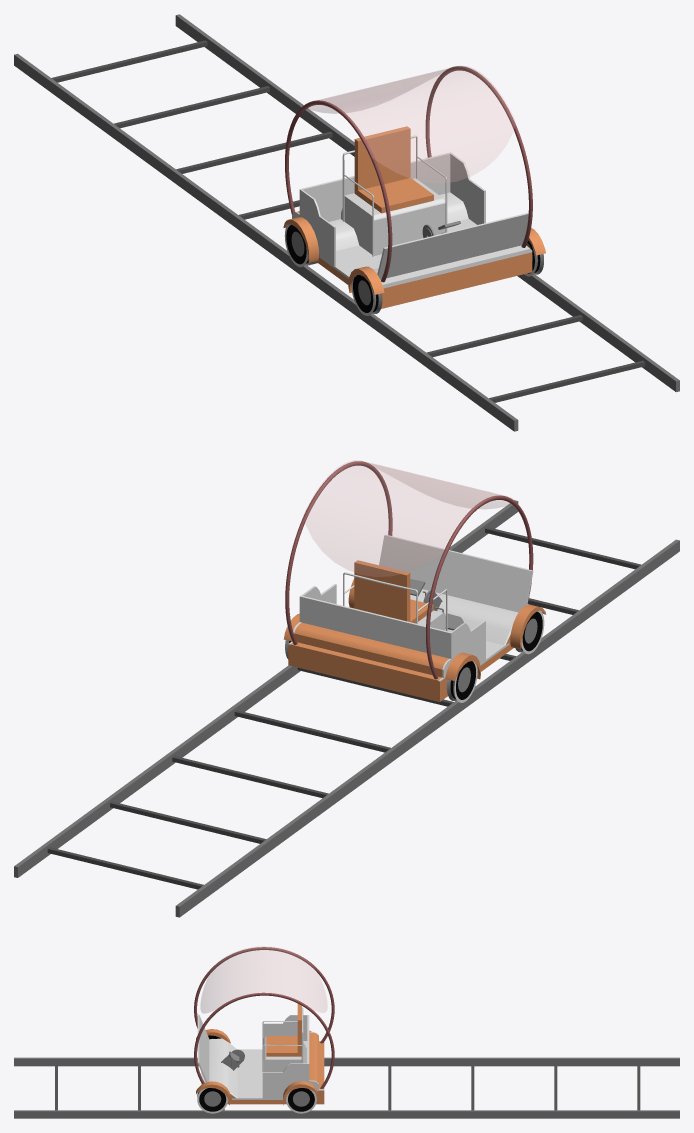
Rendered from railbike (1).fbx.
The picture shows the model from 3 angles, top to bottom: view 1: azimuth 30°, elevation 25°; view 2: azimuth 150°, elevation 25°; view 3: azimuth 270°, elevation 25°; orthographic projection. The views are drawn at different scales.
Parts seen in each view (by area): view 1: floor, pCylinder27, pCube7 (×4), pCube8 (×3), chair_floor, pCube10 (×3), chair2, pCube9 (×2), pCylinder24, chair, pCylinder23, wheel2 (+2 smaller); view 2: floor, pCylinder27, pCube7 (×4), pCube8 (×3), pCube9 (×3), chair2, pCube10 (×2), pCylinder24, pCylinder23, wheel1, wheel2; view 3: floor, pCube8 (×4), pCylinder27, pCube7 (×4), pCylinder23, pCylinder24, wheel4, wheel3, chair_floor, chair.
Boxes of the visible parts, <box> form: floor: <box>292,152,532,308</box>; pCylinder27: <box>308,66,515,183</box>; pCube7 (×4): <box>14,53,518,431</box>; pCube8 (×3): <box>175,14,679,392</box>; chair_floor: <box>341,178,445,255</box>; pCube10 (×3): <box>51,40,582,357</box>; chair2: <box>354,126,410,195</box>; pCube9 (×2): <box>114,86,645,402</box>; pCylinder24: <box>285,100,392,282</box>; chair: <box>358,178,433,213</box>; pCylinder23: <box>425,66,532,247</box>; wheel2: <box>351,275,382,315</box>; floor: <box>288,534,533,701</box>; pCylinder27: <box>303,460,515,576</box>; pCube7 (×4): <box>175,539,679,917</box>; pCube8 (×3): <box>14,500,518,877</box>; pCube9 (×3): <box>110,527,641,843</box>; chair2: <box>354,560,410,621</box>; pCube10 (×2): <box>47,756,328,889</box>; pCylinder24: <box>426,495,533,679</box>; pCylinder23: <box>285,461,392,644</box>; wheel1: <box>446,661,477,702</box>; wheel2: <box>515,610,544,654</box>; floor: <box>197,1014,324,1104</box>; pCube8 (×4): <box>14,1110,679,1118</box>; pCylinder27: <box>200,946,327,1013</box>; pCube7 (×4): <box>14,1057,679,1066</box>; pCylinder23: <box>194,992,334,1088</box>; pCylinder24: <box>194,947,334,1043</box>; wheel4: <box>286,1088,316,1113</box>; wheel3: <box>197,1088,228,1113</box>; chair_floor: <box>263,1036,306,1071</box>; chair: <box>266,1036,297,1056</box>.
Bounding box in the file's own units: 7.16 × 7.32 × 36.19.
